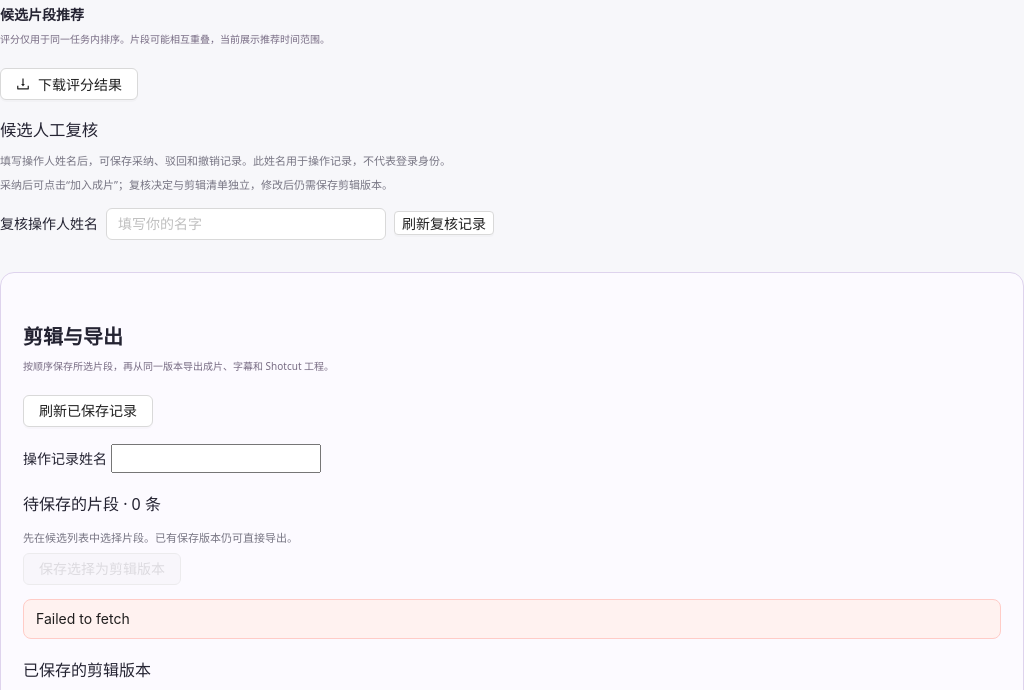
candidate human review › only offers an explicit replay after 404 and reuses the exact same write
The width and height of the screenshot is (1024, 690).
Type "小林" into the field labelled "复核操作人姓名" at x=246, y=224, box 106,208 -> 386,240
(page scrolled)
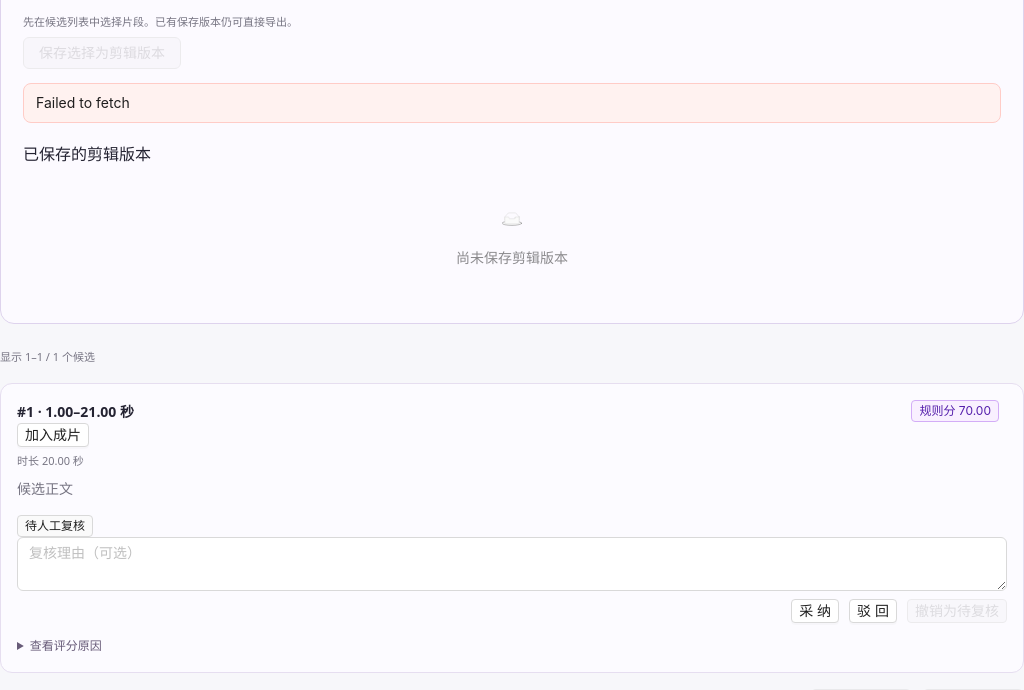
Click the button named "采纳候选 #1" at x=815, y=611, box 791,599 -> 839,623
(page scrolled)
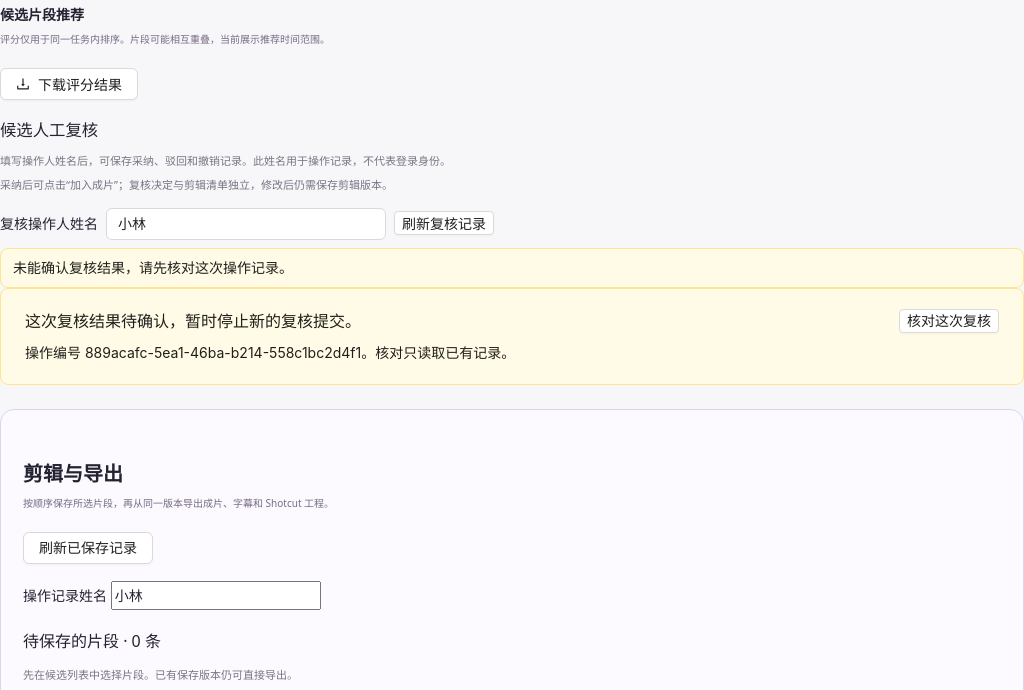
Click the button "核对这次复核" at x=949, y=321, box 899,309 -> 999,333
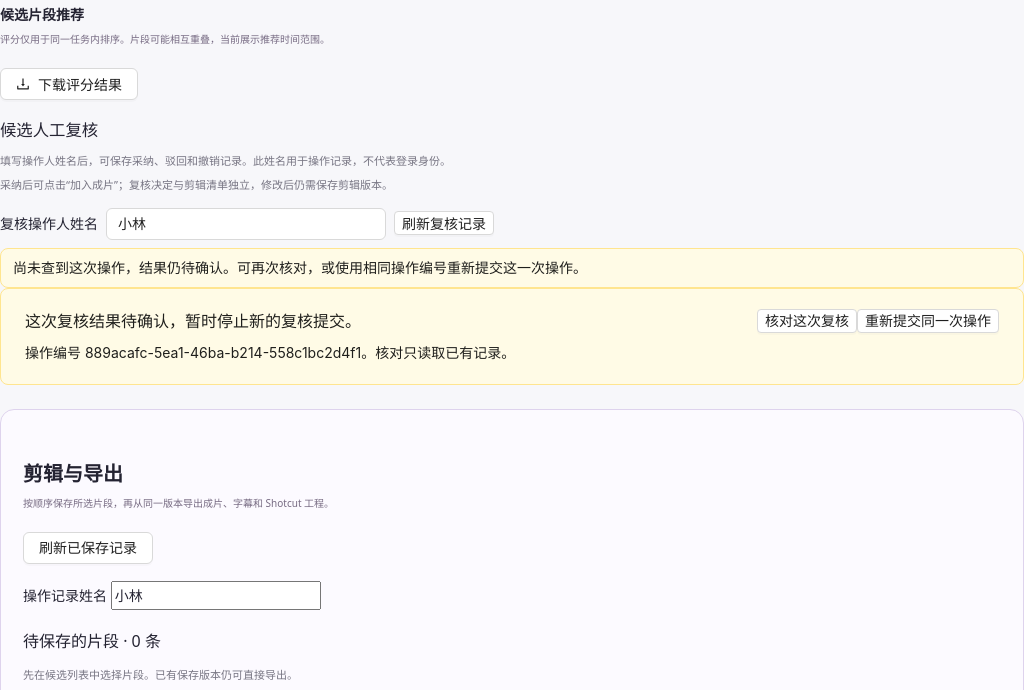
Click the button "重新提交同一次操作" at x=928, y=321, box 857,309 -> 999,333
(page scrolled)
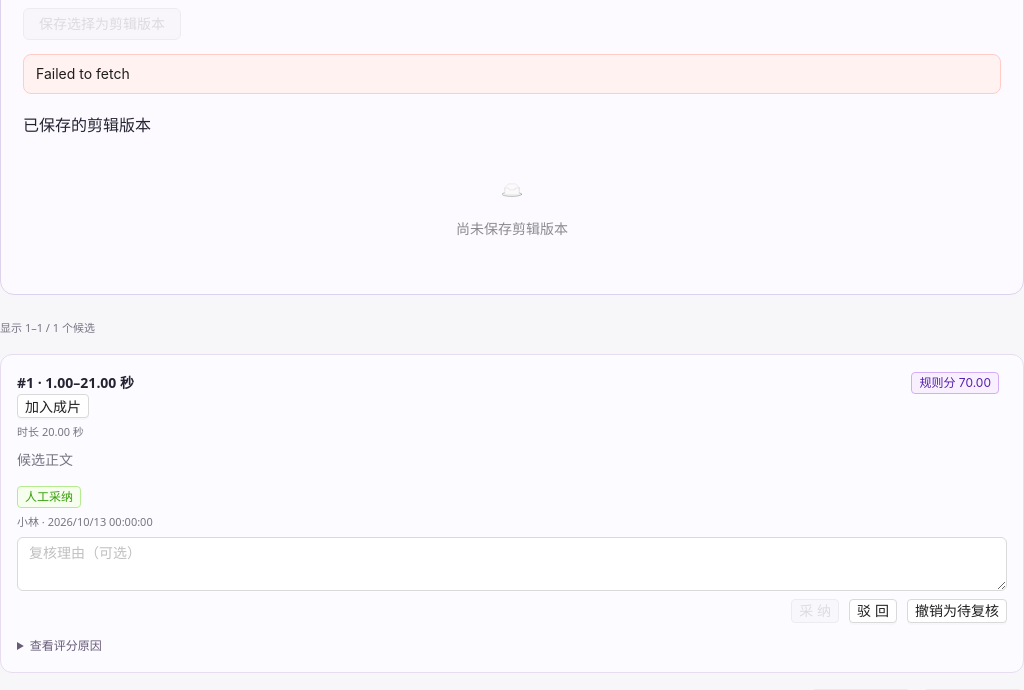
Expected: the text "人工采纳" is shown, 17,486 -> 81,508
